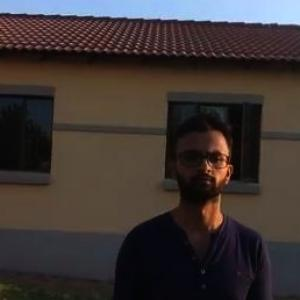follow: (99, 100, 280, 299)
